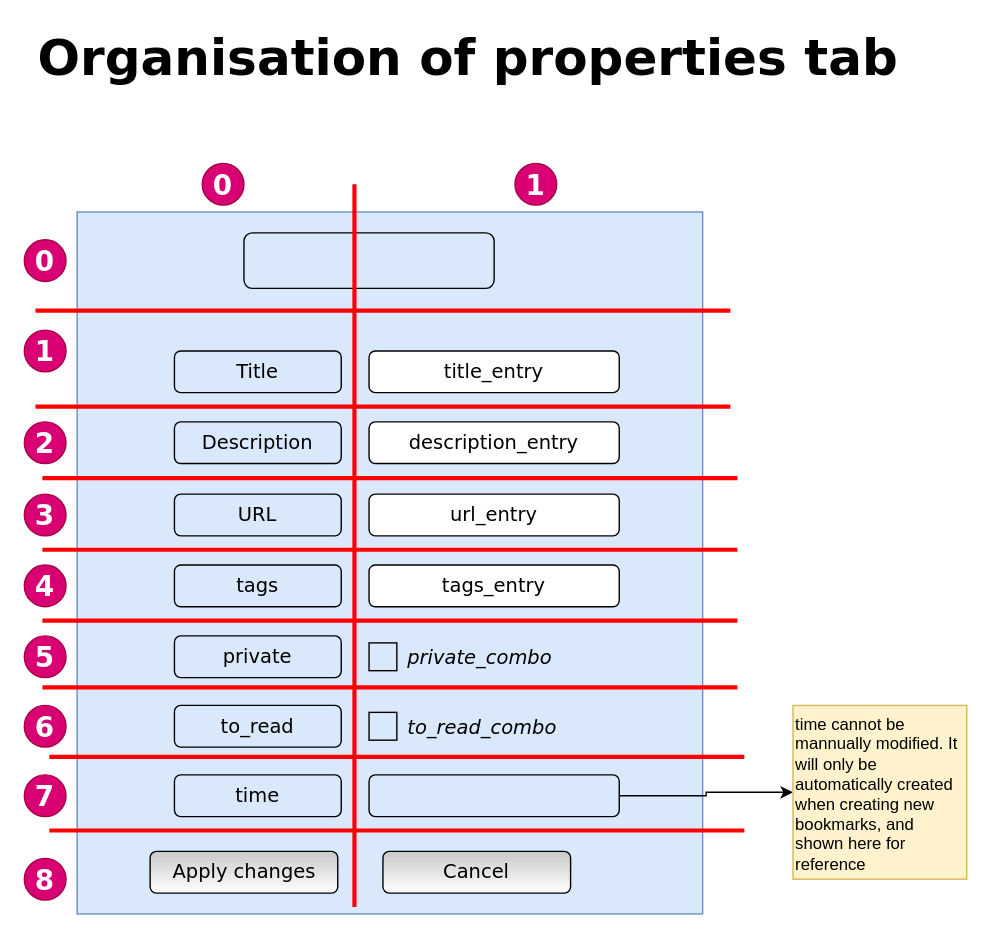
The diagram is 991 pixels wide and 938 high, and some of its shapes have lost their labels. Each missing label, with the centre of its shape:
Properties (title): the point at 368,259
time_entry: the point at 493,795
